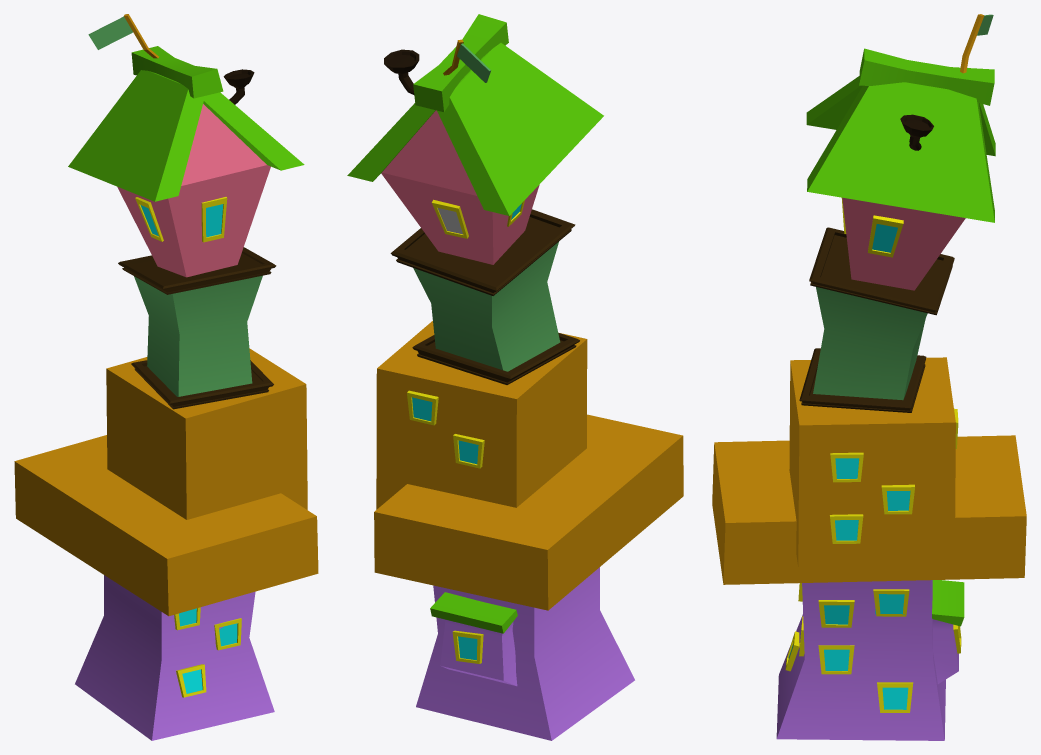
The model's file is SM_Goal_3.fbx.
3 views of the same model, side by side, from view 1: azimuth 30°, elevation 25°; view 2: azimuth 150°, elevation 25°; view 3: azimuth 270°, elevation 25° (orthographic). The views are drawn at different scales.
Parts seen in each view (by area): view 1: SM_Goal_3; view 2: SM_Goal_3; view 3: SM_Goal_3.
Part boxes in pixels (bbox=[...]): SM_Goal_3: bbox=[14, 14, 318, 740]; SM_Goal_3: bbox=[347, 14, 683, 740]; SM_Goal_3: bbox=[712, 14, 1026, 740].
Size of what is drawn, in the model's own units: 3324 by 10448 by 4281.
